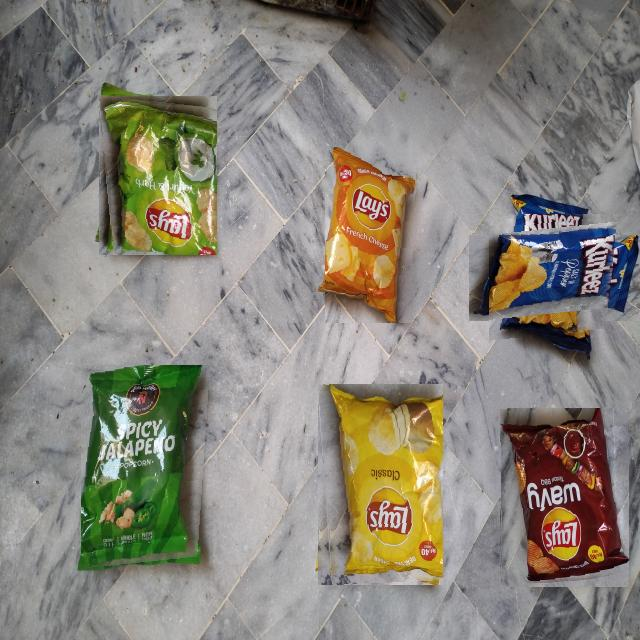Plastic: (82, 365, 212, 570), (317, 384, 443, 585), (499, 408, 629, 587), (98, 96, 217, 256), (489, 214, 619, 342), (325, 146, 417, 324)
